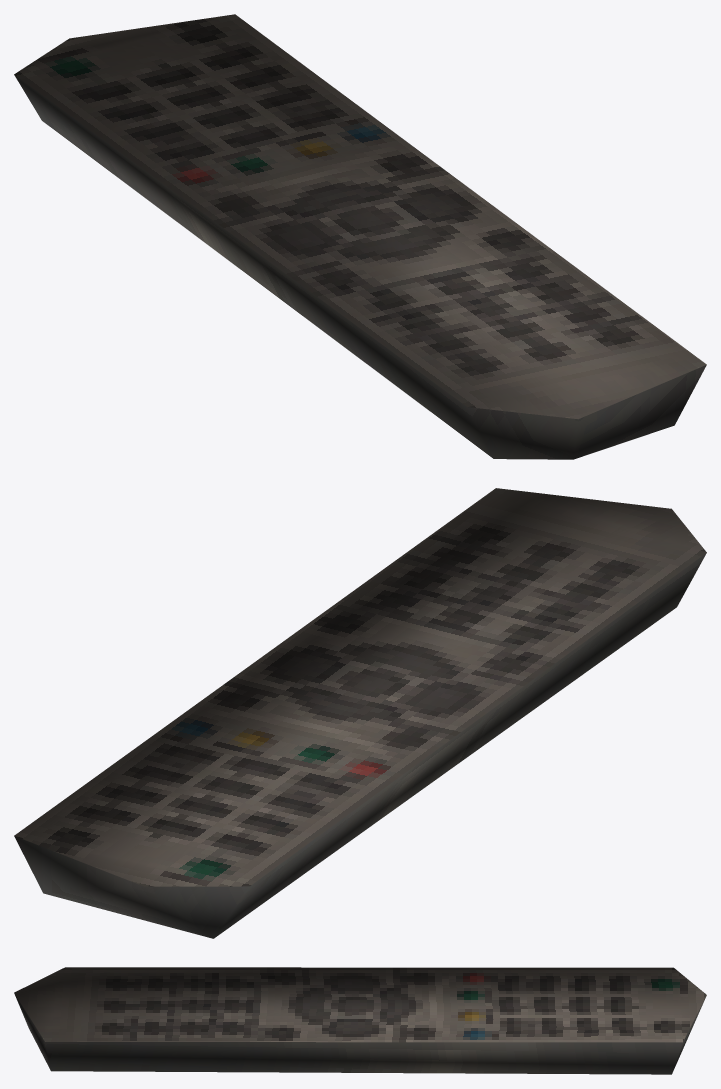
The model's file is tv_remote_mp_1.glb.
3 views of the same model, one above another, from view 1: azimuth 30°, elevation 25°; view 2: azimuth 150°, elevation 25°; view 3: azimuth 270°, elevation 25° (orthographic). The views are drawn at different scales.
Parts seen in each view (by area): view 1: tv_remote_mp_1; view 2: tv_remote_mp_1; view 3: tv_remote_mp_1.
Part boxes in pixels (left/top/right/bottom): tv_remote_mp_1: left=14, top=14, right=706, bottom=459; tv_remote_mp_1: left=14, top=488, right=706, bottom=938; tv_remote_mp_1: left=14, top=967, right=706, bottom=1074.
Bounding box in the file's own units: 0.0733 × 0.0184 × 0.287.
1 material, 1 textured.
